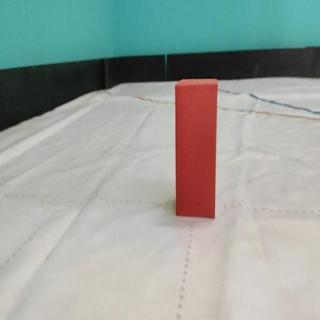redbox: (176, 80, 216, 217)
